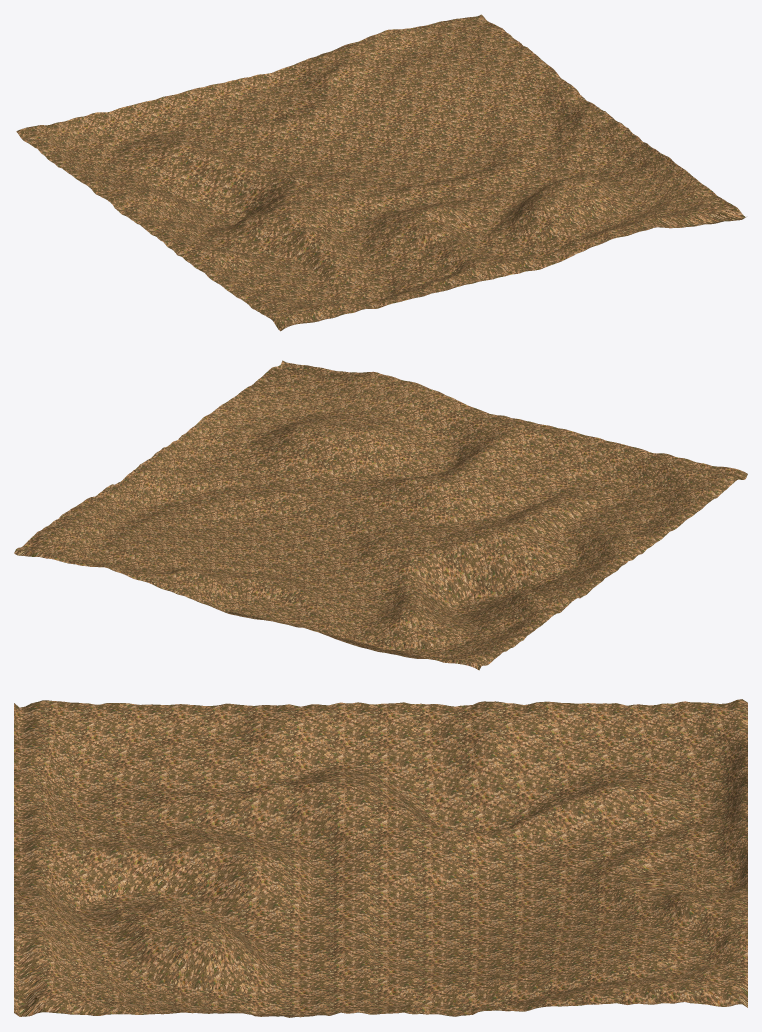
File: Terrain final final.fbx
3 views of the same model, one above another, from view 1: azimuth 30°, elevation 25°; view 2: azimuth 150°, elevation 25°; view 3: azimuth 270°, elevation 25° (orthographic). The views are drawn at different scales.
Visible parts, largest first — view 1: Plane; view 2: Plane; view 3: Plane.
Part boxes in pixels (x1,y1,x2,y2): Plane: (16, 14, 745, 331); Plane: (14, 360, 747, 670); Plane: (14, 699, 747, 1017).
Bounding box in the file's own units: 16.18 × 1.69 × 16.18.
